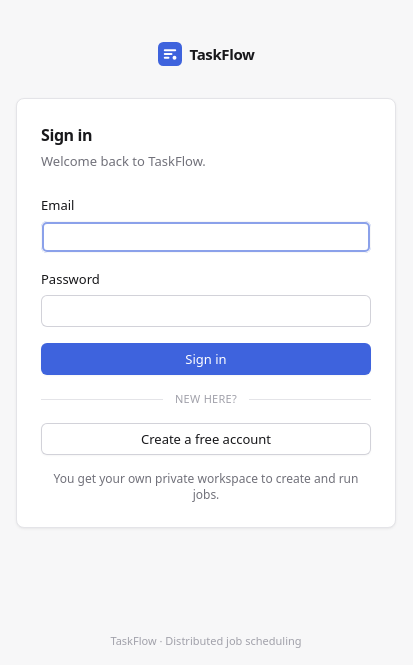
Test: LoginPage › shows the server's error for bad credentials
This screenshot has width=413, height=665.
Type "a@example.com" into the field labelled "Email" at point(206, 237), box top-left (41, 221), bottom-right (371, 253)
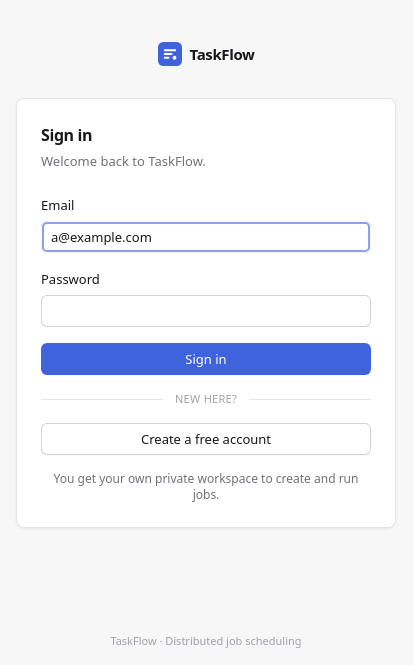
Type "wrong-password" into the password field labelled "Password" at point(206, 311), box top-left (41, 295), bottom-right (371, 327)
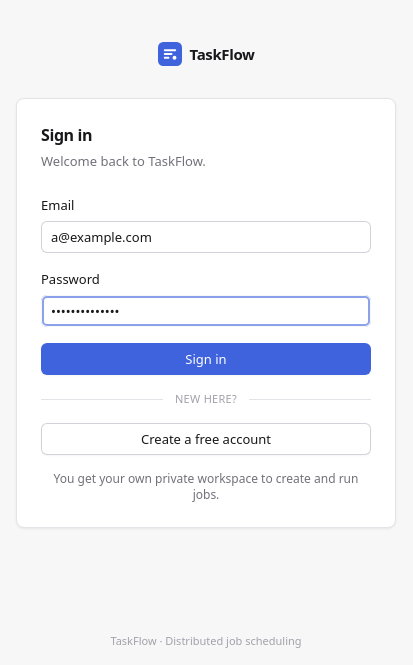
Click the button "Sign in" at point(206, 359), box top-left (41, 343), bottom-right (371, 375)
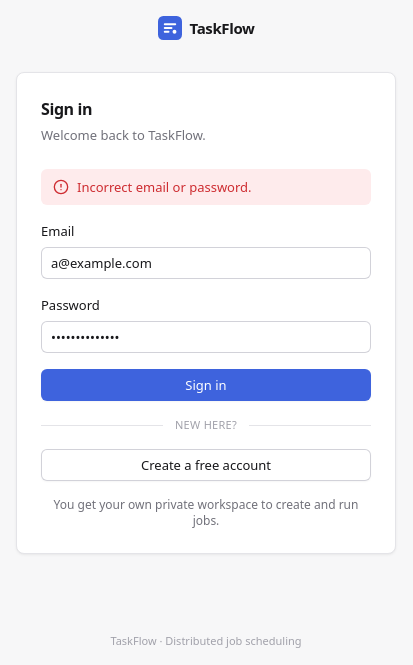
Expected: the message reads "Incorrect email or password.", top-left (77, 178), bottom-right (252, 196)
